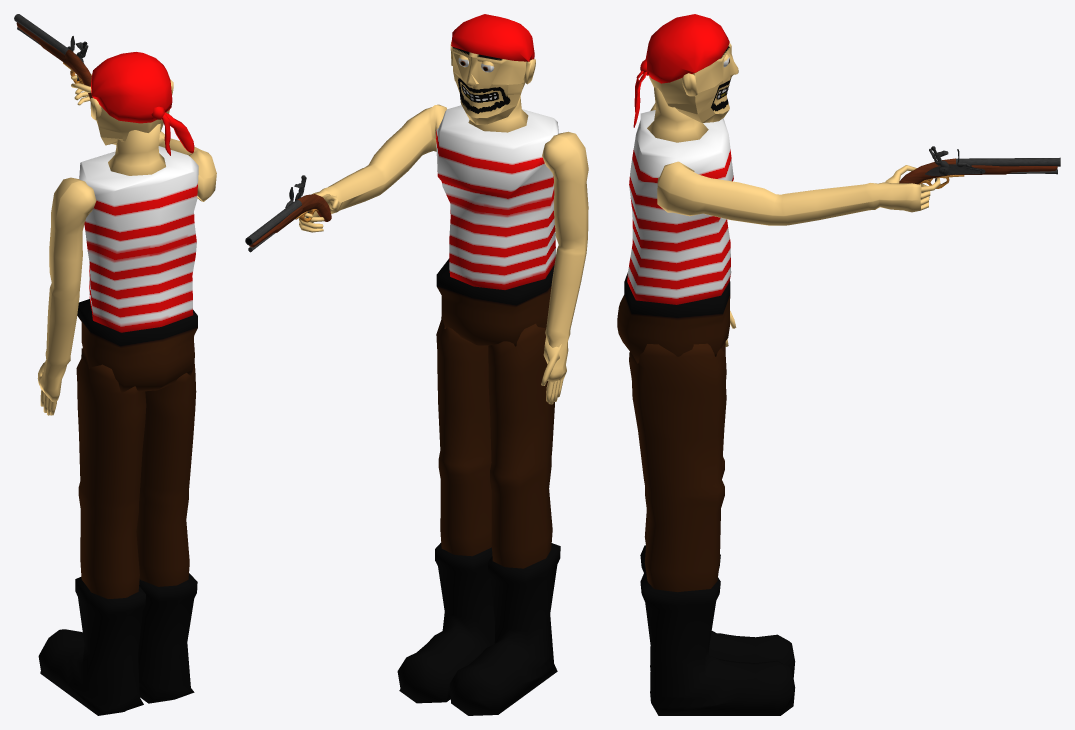
File: pirate_pistol.fbx
3 views of the same model, side by side, from view 1: azimuth 30°, elevation 25°; view 2: azimuth 150°, elevation 25°; view 3: azimuth 270°, elevation 25° (orthographic). The views are drawn at different scales.
Parts seen in each view (by area): view 1: pirate_body, pirate_leftleg, pirate_rightleg, pirate_leftboot, pirate_leftarm, pirate_groin, pirate_rightboot, pirate_bandana, pirate_neck, pirate_rightarm, pirate_head, Cylinder02 (+1 smaller); view 2: pirate_body, pirate_leftleg, pirate_rightleg, pirate_leftboot, pirate_rightboot, pirate_leftarm, pirate_groin, pirate_rightarm, pirate_head, pirate_bandana, Cylinder02, pirate_neck (+1 smaller); view 3: pirate_rightleg, pirate_body, pirate_rightboot, pirate_rightarm, pirate_groin, pirate_bandana, pirate_head, pirate_leftboot, pirate_neck, Cylinder02, Cylinder03.
Boxes of the visible parts, box(x1,y1,x2,y2) form: pirate_body: box(79, 146, 198, 332); pirate_leftleg: box(76, 348, 146, 598); pirate_rightleg: box(136, 361, 196, 586); pirate_leftboot: box(38, 577, 145, 715); pirate_leftarm: box(39, 177, 96, 401); pirate_groin: box(77, 299, 197, 392); pirate_rightboot: box(138, 573, 197, 703); pirate_bandana: box(91, 52, 194, 155); pirate_neck: box(108, 123, 165, 175); pirate_rightarm: box(158, 131, 216, 201); pirate_head: box(92, 97, 169, 145); Cylinder02: box(16, 22, 92, 98); pirate_body: box(436, 105, 558, 289); pirate_leftleg: box(488, 323, 554, 568); pirate_rightleg: box(436, 316, 491, 556); pirate_leftboot: box(449, 543, 560, 715); pirate_rightboot: box(397, 542, 494, 703); pirate_leftarm: box(542, 131, 588, 382); pirate_groin: box(436, 258, 554, 346); pirate_rightarm: box(299, 104, 446, 222); pirate_head: box(452, 47, 526, 124); pirate_bandana: box(451, 14, 534, 61); Cylinder02: box(249, 194, 331, 247); pirate_neck: box(468, 96, 528, 132); pirate_rightleg: box(629, 343, 726, 592); pirate_body: box(627, 110, 733, 304); pirate_rightboot: box(640, 572, 795, 715); pirate_rightarm: box(657, 161, 921, 225); pirate_groin: box(617, 272, 730, 363); pirate_bandana: box(633, 14, 729, 127); pirate_head: box(648, 43, 738, 122); pirate_leftboot: box(640, 545, 795, 677); pirate_neck: box(647, 87, 708, 142); Cylinder02: box(899, 158, 1057, 184); Cylinder03: box(956, 157, 1060, 166).
Bounding box in the file's own units: 4.46 × 15.94 × 9.52.
2 materials, 2 textured.
